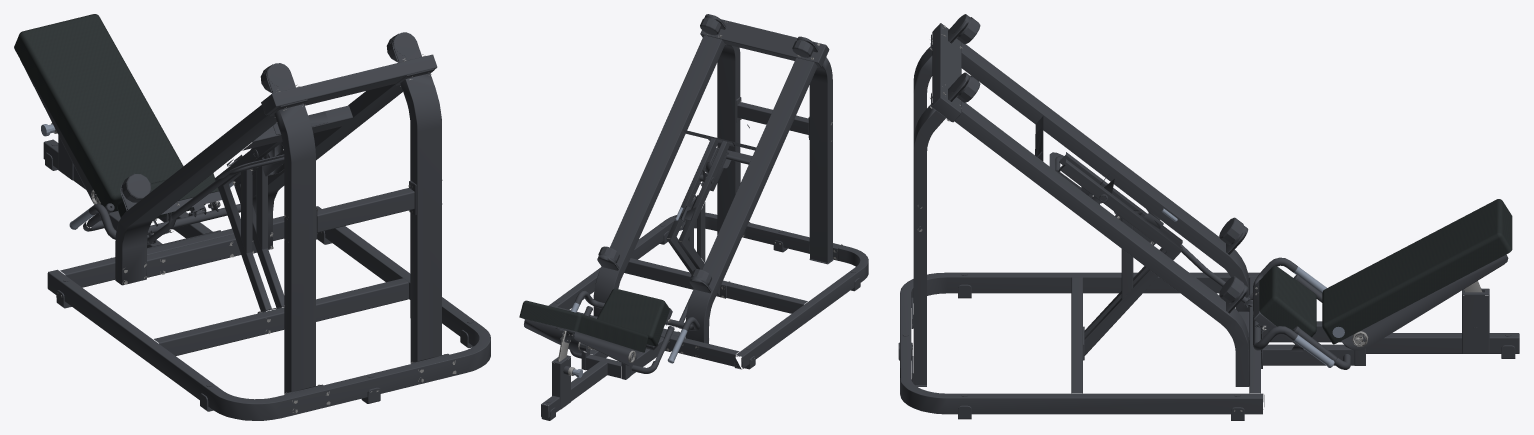
Rendered from linear-leg-press-frame-neon.glb.
3 views of the same model, side by side, from view 1: azimuth 30°, elevation 25°; view 2: azimuth 150°, elevation 25°; view 3: azimuth 270°, elevation 25° (orthographic). The views are drawn at different scales.
Visible parts, largest first — view 1: Mesh_4, Mesh_6, Mesh_0, Mesh_1; view 2: Mesh_4, Mesh_6, Mesh_0, Mesh_1, Mesh_2; view 3: Mesh_4, Mesh_6, Mesh_0, Mesh_2.
Boxes of the visible parts, <box> form: Mesh_4: <box>20,32,490,420</box>; Mesh_6: <box>14,14,218,218</box>; Mesh_0: <box>43,33,473,411</box>; Mesh_1: <box>51,54,456,412</box>; Mesh_4: <box>524,14,868,417</box>; Mesh_6: <box>519,288,669,352</box>; Mesh_0: <box>541,18,860,420</box>; Mesh_1: <box>558,21,842,375</box>; Mesh_2: <box>570,207,687,377</box>; Mesh_4: <box>900,14,1518,414</box>; Mesh_6: <box>1259,199,1512,344</box>; Mesh_0: <box>898,17,1519,420</box>; Mesh_2: <box>1161,208,1481,367</box>.
Size of the model in its own units: 1.3 by 1.5 by 2.69.
Materials: 4 (1 with a texture image).
